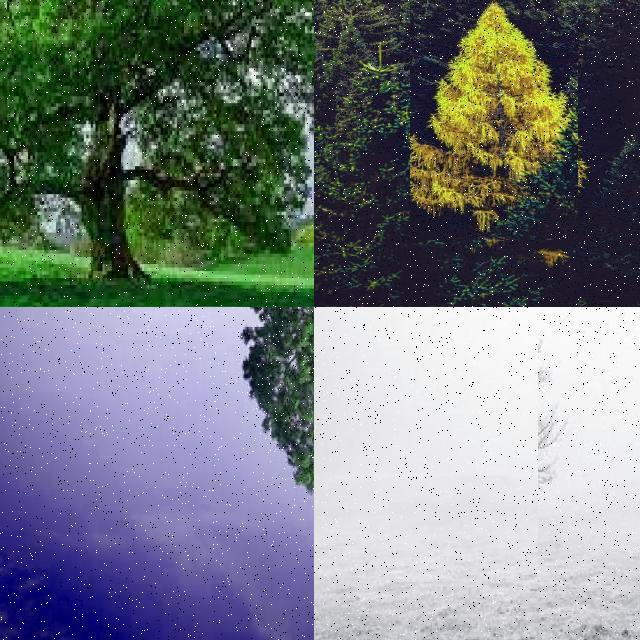tree: (0, 0, 314, 278), (410, 0, 578, 240), (173, 306, 314, 542), (538, 308, 640, 556), (588, 205, 640, 307), (394, 1, 431, 23), (362, 0, 386, 20), (544, 0, 568, 18), (612, 0, 640, 12), (626, 0, 640, 22), (628, 0, 640, 20)
